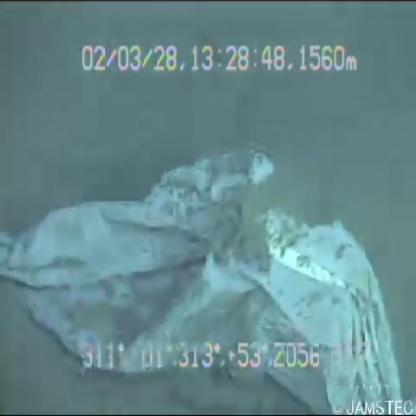Rác: (4, 138, 411, 416)
